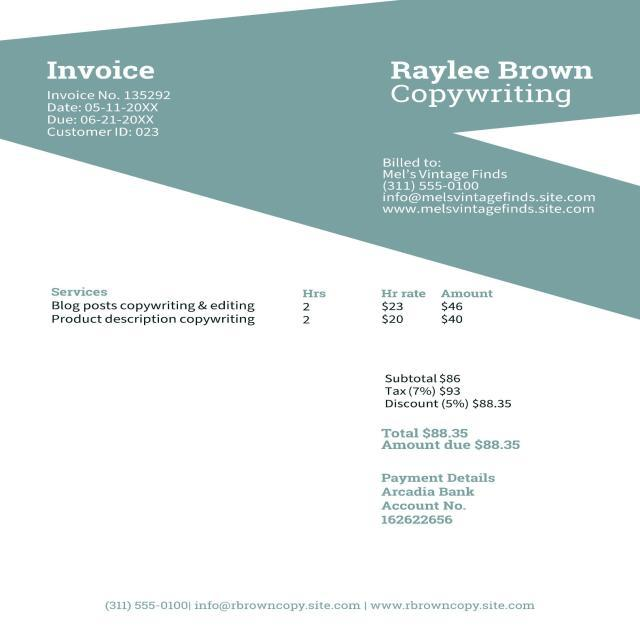ROI: (31, 266, 525, 340), (372, 151, 610, 229), (95, 586, 541, 626), (368, 48, 612, 115), (362, 468, 510, 534), (348, 367, 532, 417), (38, 88, 174, 144), (355, 425, 541, 458), (39, 50, 168, 84)
